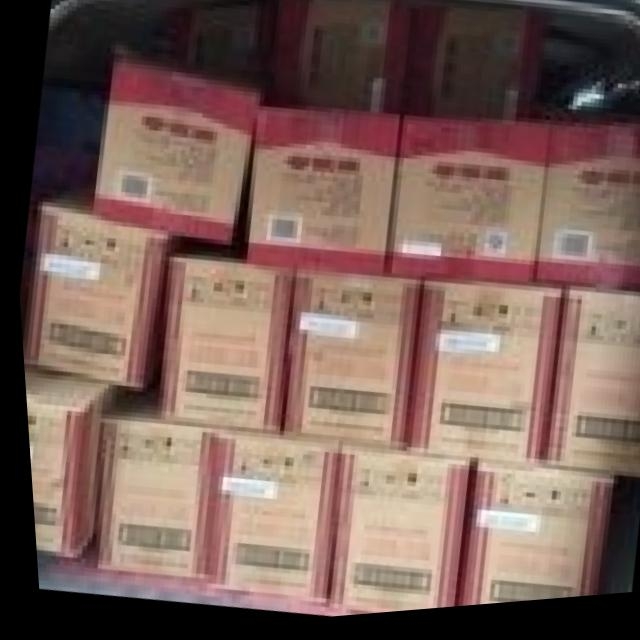box: (18, 163, 175, 386), (86, 50, 259, 246), (399, 285, 559, 474), (382, 124, 543, 291), (243, 110, 400, 281), (273, 275, 416, 455), (194, 431, 332, 609), (153, 257, 287, 437), (324, 451, 463, 620), (448, 467, 602, 613), (87, 395, 201, 588), (529, 296, 640, 491), (19, 364, 125, 556), (526, 132, 640, 307)
